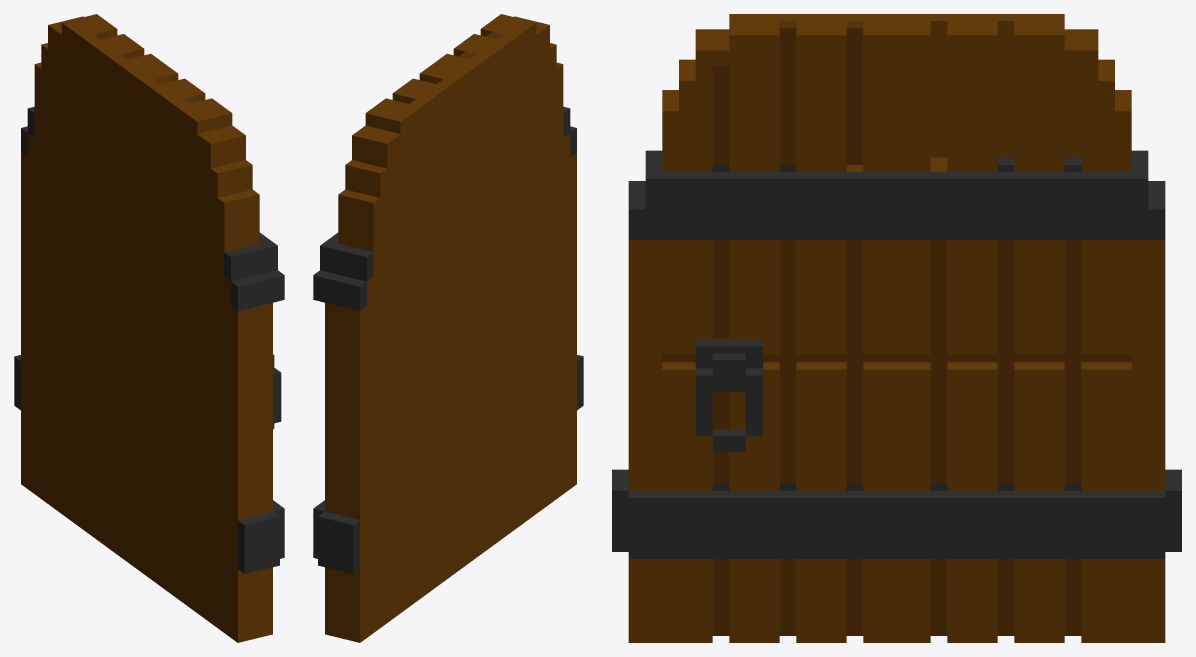
The model's file is ship-4.obj.
3 views of the same model, side by side, from view 1: azimuth 30°, elevation 25°; view 2: azimuth 150°, elevation 25°; view 3: azimuth 270°, elevation 25° (orthographic). The views are drawn at different scales.
Size of the model in its own units: 0.6 by 4 by 3.4.
1 material, 1 textured.
